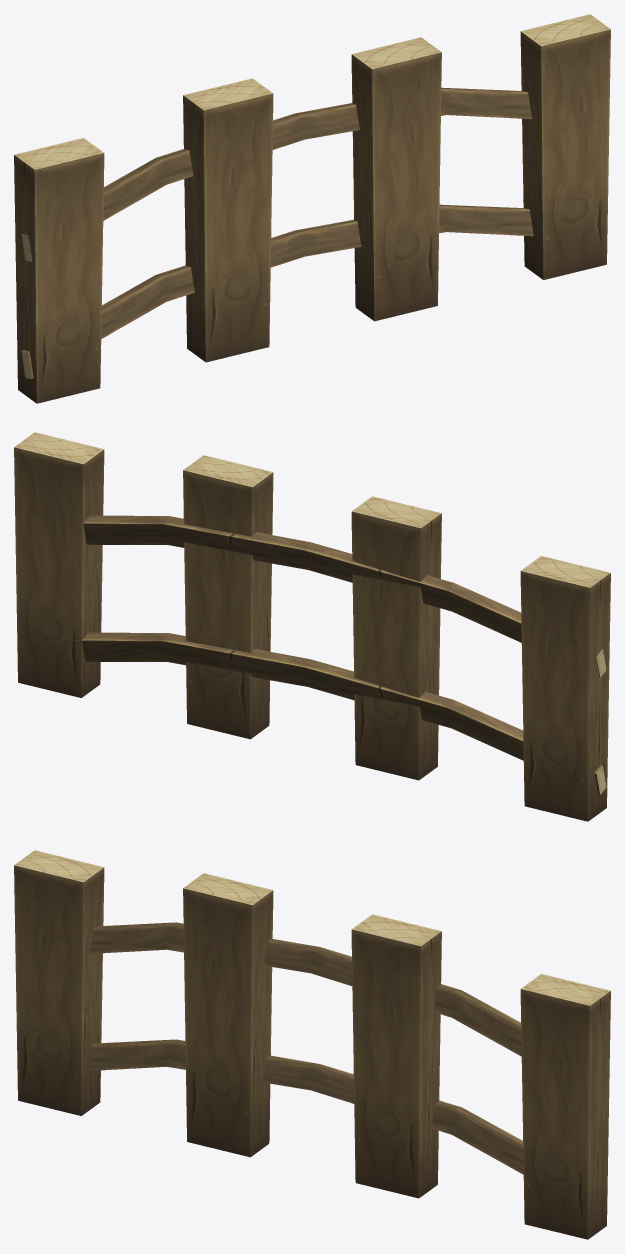
The model's file is wooden_fence_34.fbx.
3 renders of one model, top to bottom at view 1: azimuth 30°, elevation 25°; view 2: azimuth 150°, elevation 25°; view 3: azimuth 330°, elevation 25°, orthographic.
Visible parts, largest first — view 1: wooden_fence_34:Mesh; view 2: wooden_fence_34:Mesh; view 3: wooden_fence_34:Mesh.
Boxes of the visible parts, x1,y1,x2,y2 form: wooden_fence_34:Mesh: (14, 14, 610, 403); wooden_fence_34:Mesh: (14, 432, 610, 821); wooden_fence_34:Mesh: (14, 850, 610, 1239).
Size of the model in its own units: 7.11 by 2.99 by 0.4965.
